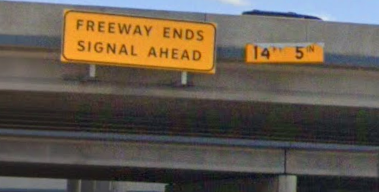1: (250, 43, 259, 63)
4: (259, 44, 271, 63)
5: (293, 43, 305, 63)
overheadsign: (243, 41, 326, 65)
